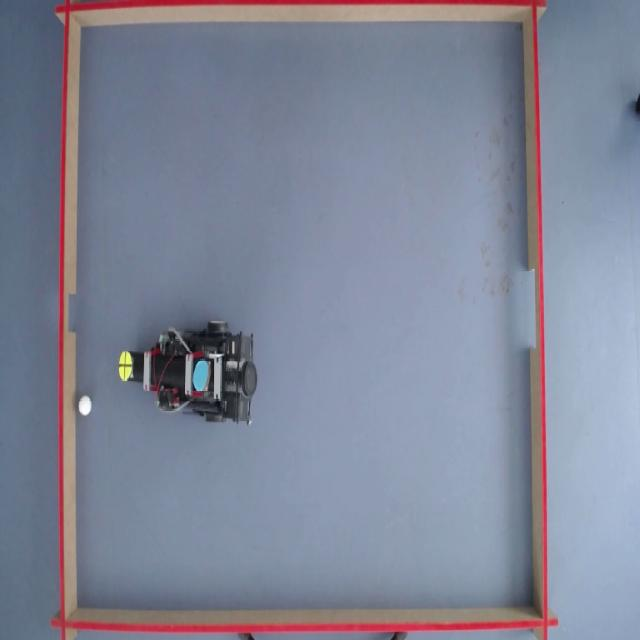robot: (118, 325, 260, 425)
robot-front: (118, 350, 134, 382)
robot-rear: (192, 357, 210, 393)
white: (79, 396, 93, 417)
